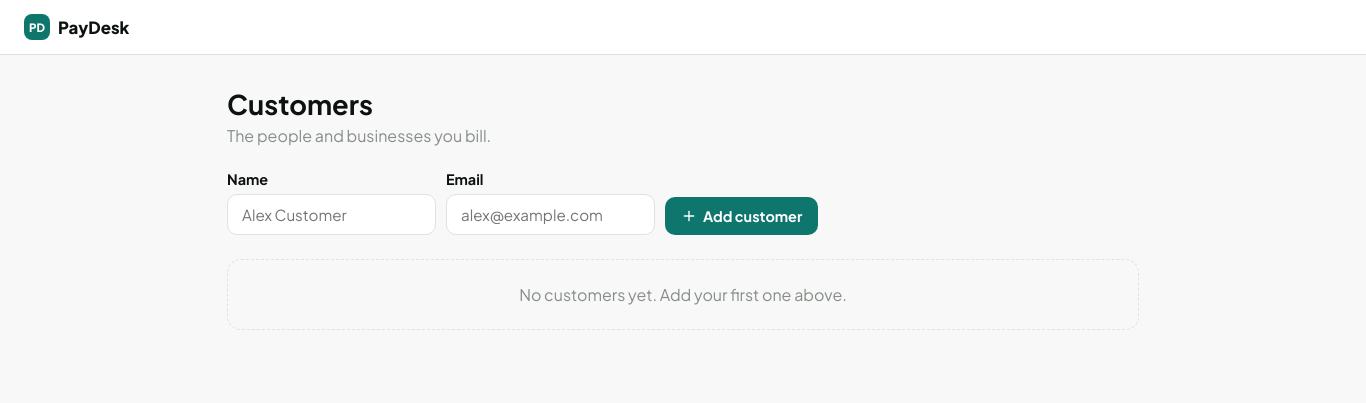
Scenario: CustomersPage › shows the server's error message when creation fails
This screenshot has width=1366, height=403.
Expected: the text "No customers yet. Add your first one above." is shown, [227,259,1139,330]
Type "Sam New" into the field with placeholder "Alex Customer".
click(332, 214); type("Sam New")  # box [227,194,436,235]
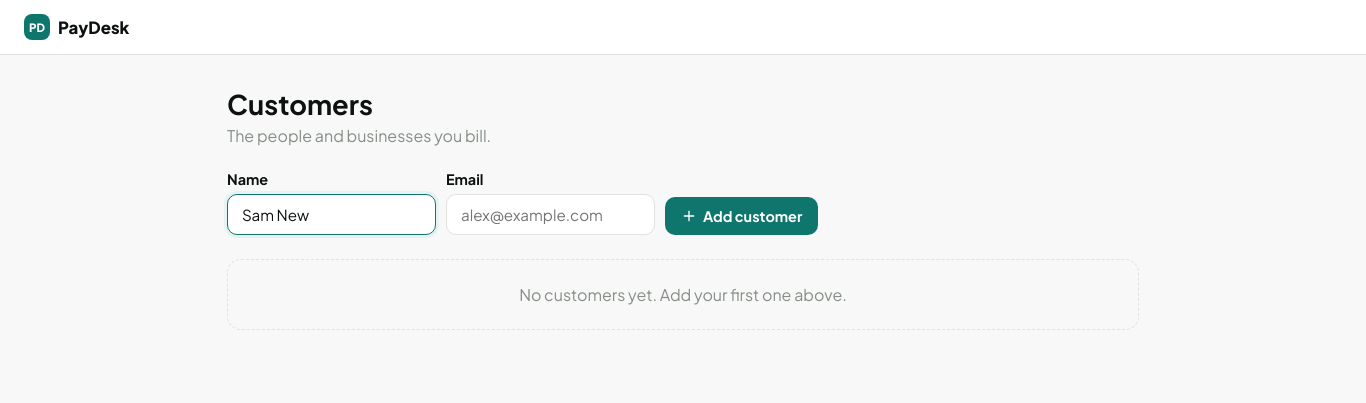
Type "not-an-email" into the field with placeholder "alex@example.com".
click(550, 214); type("not-an-email")  # box [446,194,655,235]
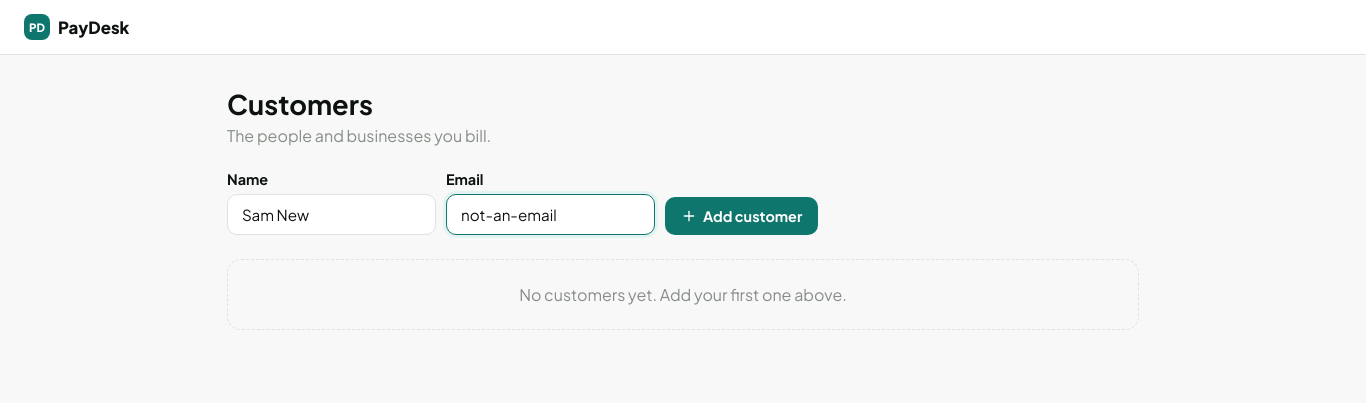
Click the button "Add customer".
click(742, 216)  # box [665,197,818,235]
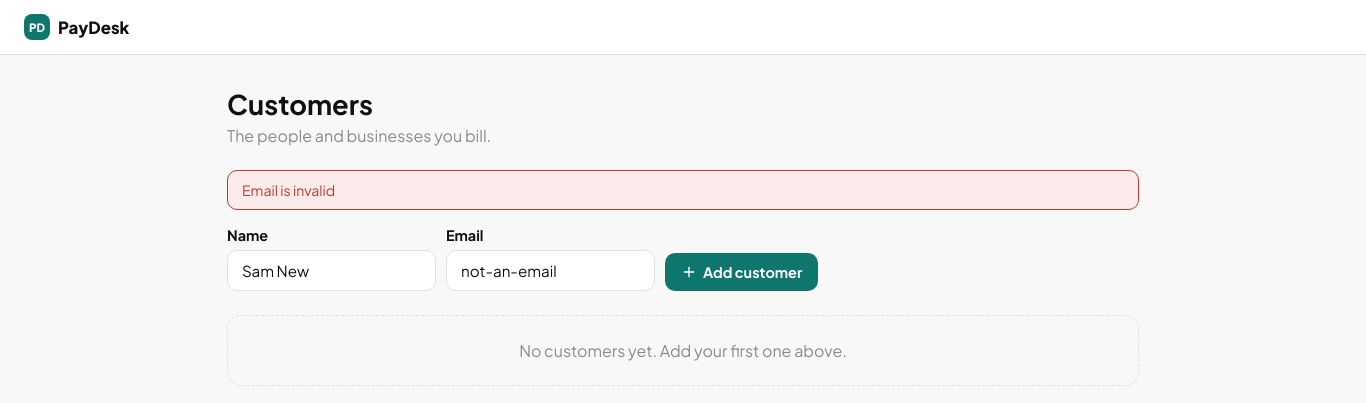
Now the message reads "Email is invalid", box [242,181,335,199]
